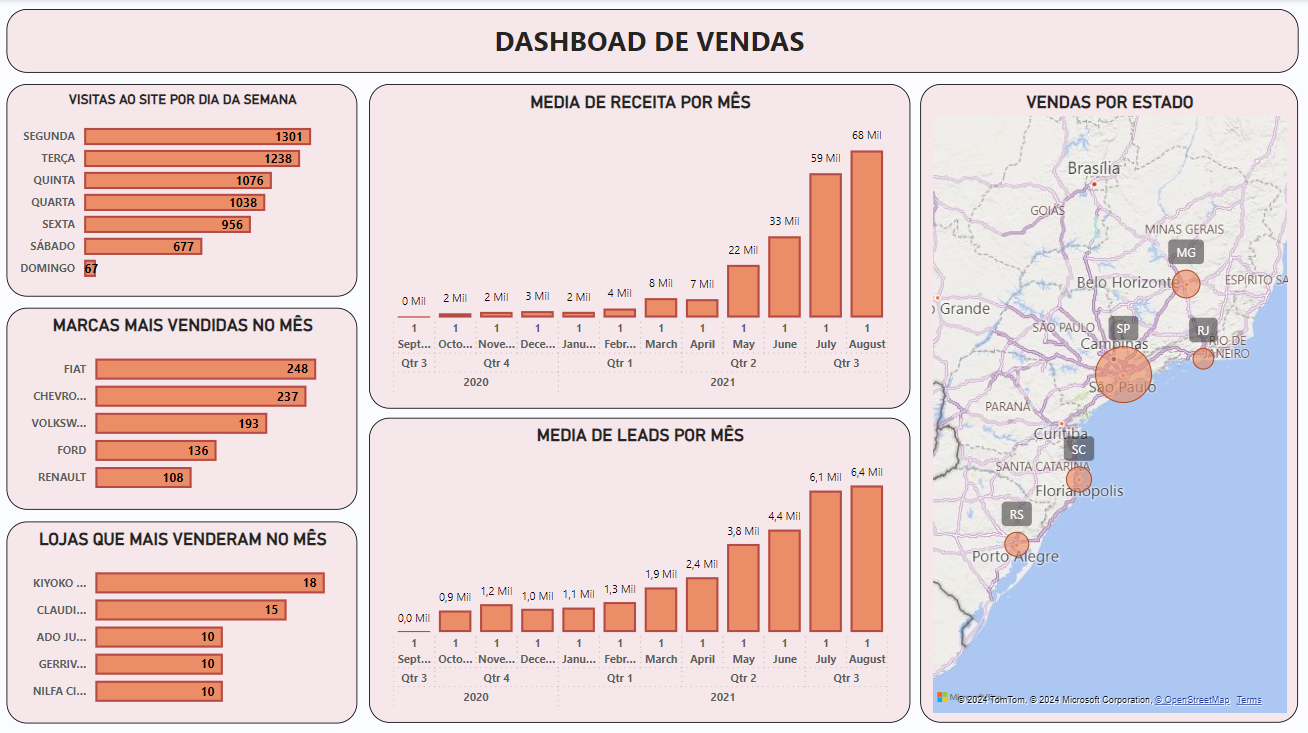

The page's visual inventory and layout, read from the dashboard file:
{"tool":"powerbi","page":{"name":"Dashboard de Vendas ","canvas":[1280,720],"ordinal":0},"visuals":[{"type":"clusteredBarChart","title":"VISITAS AO SITE POR DIA DA SEMANA ","fields":{"Category":["public dia_da_semana.dia da semana"],"Y":["public dia_da_semana.visitas (#)"]},"box":[7.2,83.7,343.4,207.8],"z":0},{"type":"clusteredBarChart","title":"MARCAS MAIS VENDIDAS NO MÊS","fields":{"Category":["public marcas_mais_vendidas.marca"],"Y":["public marcas_mais_vendidas.vendas (#)"]},"box":[7.2,302.3,343.4,197.7],"z":1000},{"type":"clusteredBarChart","title":"LOJAS QUE MAIS VENDERAM NO MÊS ","fields":{"Category":["public lojas_mais_vendidas.store_name"],"Y":["public lojas_mais_vendidas.vendas (#)"]},"box":[7.2,510.7,343.4,197.7],"z":2000},{"type":"textbox","box":[7.2,10.1,1263.9,62],"z":3000},{"type":"map","title":"VENDAS POR ESTADO","fields":{"Series":["public mapa_vendas.pais"],"Category":["public mapa_vendas.estado"],"Size":["public mapa_vendas.vendas (#)"]},"box":[901.7,83.7,369.3,624.7],"z":4000},{"type":"lineStackedColumnComboChart","title":"MEDIA DE RECEITA POR MÊS ","fields":{"Category":["Planilha1.mês.Variation.Date Hierarchy.Year","Planilha1.mês.Variation.Date Hierarchy.Quarter","Planilha1.mês.Variation.Date Hierarchy.Month","Planilha1.mês.Variation.Date Hierarchy.Day"],"Y":["Planilha1.receita (k, R$)"]},"box":[362.1,83.7,529.5,317.4],"z":5000},{"type":"lineStackedColumnComboChart","title":"MEDIA DE LEADS POR MÊS ","fields":{"Category":["Planilha1.mês.Variation.Date Hierarchy.Year","Planilha1.mês.Variation.Date Hierarchy.Quarter","Planilha1.mês.Variation.Date Hierarchy.Month","Planilha1.mês.Variation.Date Hierarchy.Day"],"Y":["Planilha1.leads (#)"]},"box":[362.1,409.7,529.5,298.7],"z":6000}]}

Visuals, with their boxes in screenshot pixels (x1, y1, x2, y2), scaled from the page's 1280x720 canvas onto the 1308x733 screenshot:
"VISITAS AO SITE POR DIA DA SEMANA " clusteredBarChart: [x1=7, y1=85, x2=358, y2=297]
"MARCAS MAIS VENDIDAS NO MÊS" clusteredBarChart: [x1=7, y1=308, x2=358, y2=509]
"LOJAS QUE MAIS VENDERAM NO MÊS " clusteredBarChart: [x1=7, y1=520, x2=358, y2=721]
textbox: [x1=7, y1=10, x2=1299, y2=73]
"VENDAS POR ESTADO" map: [x1=921, y1=85, x2=1299, y2=721]
"MEDIA DE RECEITA POR MÊS " lineStackedColumnComboChart: [x1=370, y1=85, x2=911, y2=408]
"MEDIA DE LEADS POR MÊS " lineStackedColumnComboChart: [x1=370, y1=417, x2=911, y2=721]
